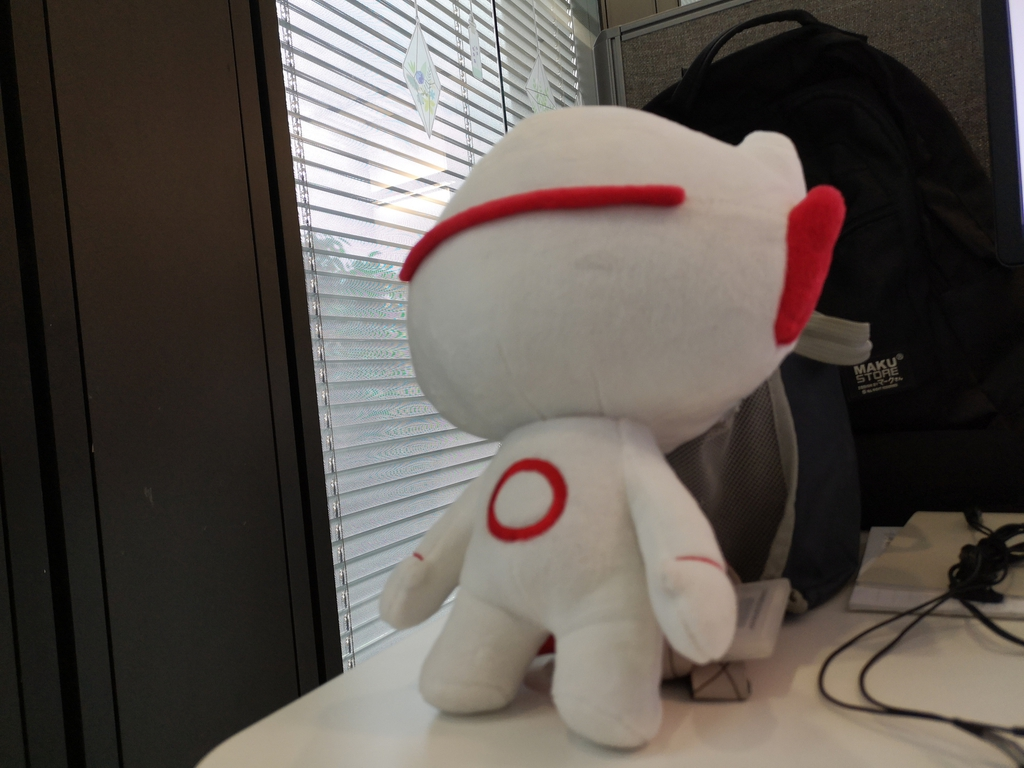yunbao: (367, 79, 840, 741)
